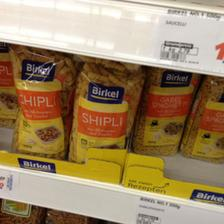Nudeln: (66, 65, 142, 162), (7, 44, 69, 156), (136, 66, 196, 154), (180, 75, 222, 161)
